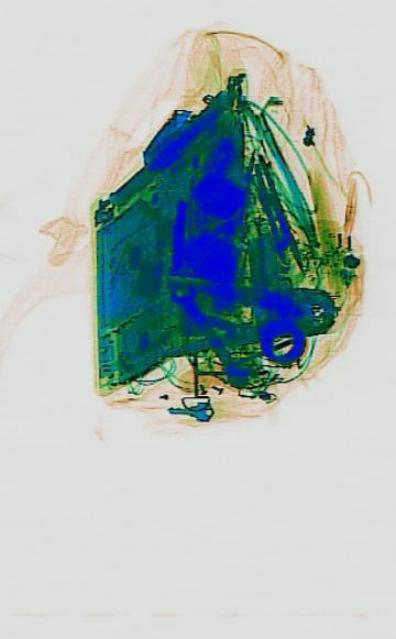Pliers: (159, 273, 331, 356)
Wrench: (167, 269, 249, 400)
